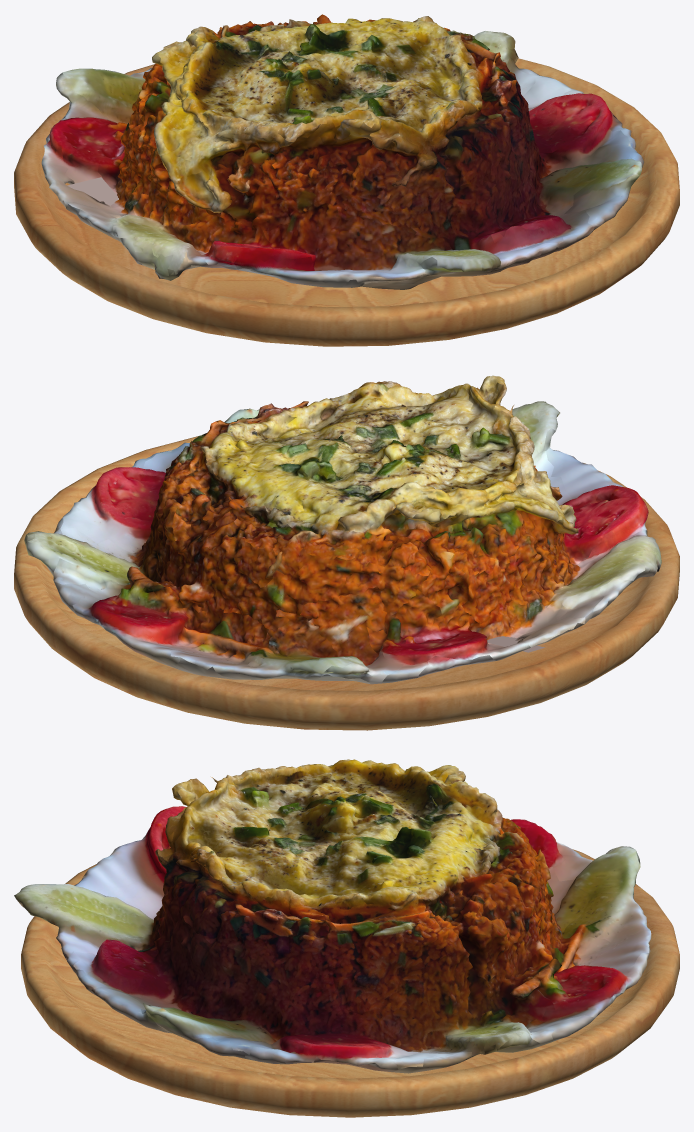
The model's file is Omlette_rice.glb.
3 renders of one model, top to bottom at view 1: azimuth 30°, elevation 25°; view 2: azimuth 150°, elevation 25°; view 3: azimuth 270°, elevation 25°, orthographic.
Visible parts, largest first — view 1: Mesh_0.002, Object_2, Grid; view 2: Mesh_0.002, Object_2; view 3: Mesh_0.002, Object_2.
Boxes of the visible parts, x1=… form: Mesh_0.002: x1=41, y1=14, x2=644, y2=289; Object_2: x1=14, y1=58, x2=679, y2=346; Grid: x1=67, y1=177, x2=118, y2=205; Mesh_0.002: x1=24, y1=375, x2=661, y2=684; Object_2: x1=14, y1=435, x2=679, y2=730; Mesh_0.002: x1=14, y1=759, x2=651, y2=1073; Object_2: x1=21, y1=849, x2=679, y2=1117.
Size of the model in its own units: 0.2969 by 0.0861 by 0.3.
3 materials, 2 textured.
